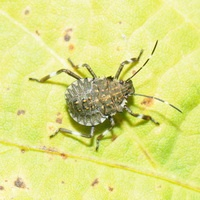insect: (29, 40, 181, 137)
